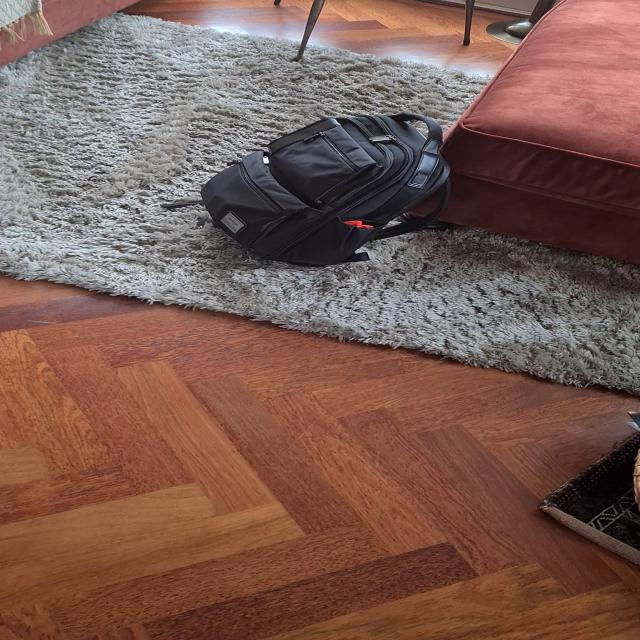backpack: (191, 106, 463, 271)
